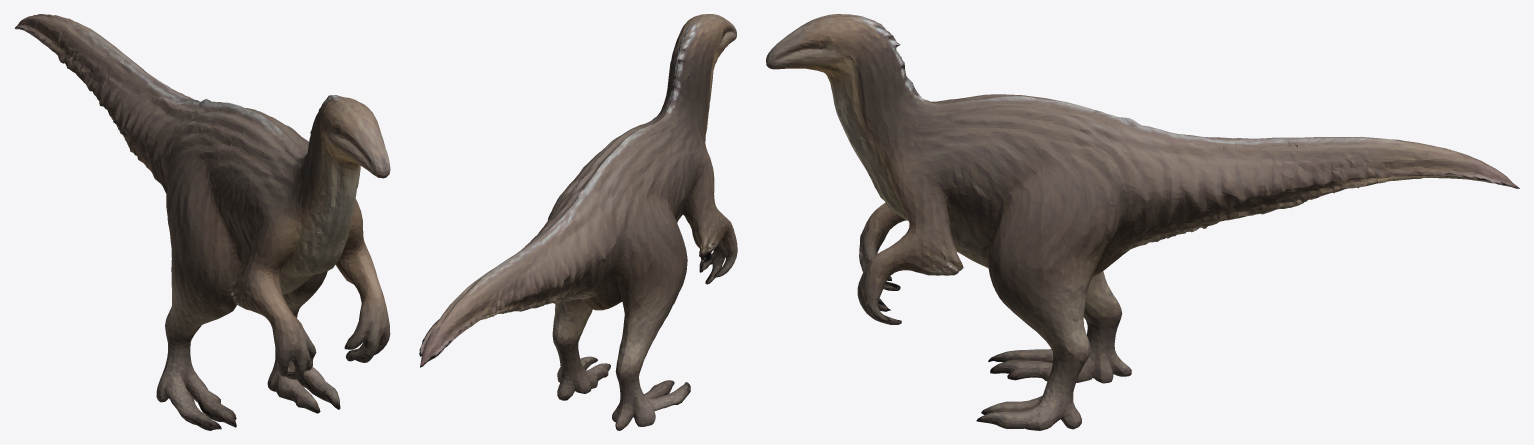
The picture shows the model from 3 angles, left to right: view 1: azimuth 30°, elevation 25°; view 2: azimuth 150°, elevation 25°; view 3: azimuth 270°, elevation 25°; orthographic projection. The views are drawn at different scales.
Parts seen in each view (by area): view 1: world; view 2: world; view 3: world.
Part boxes in pixels (x1=…): world: x1=14, y1=14, x2=390, y2=430; world: x1=419, y1=14, x2=737, y2=430; world: x1=766, y1=14, x2=1519, y2=430.
Bounding box in the file's own units: 0.2241 × 0.5664 × 0.9995.
Materials: 1 (1 with a texture image).
